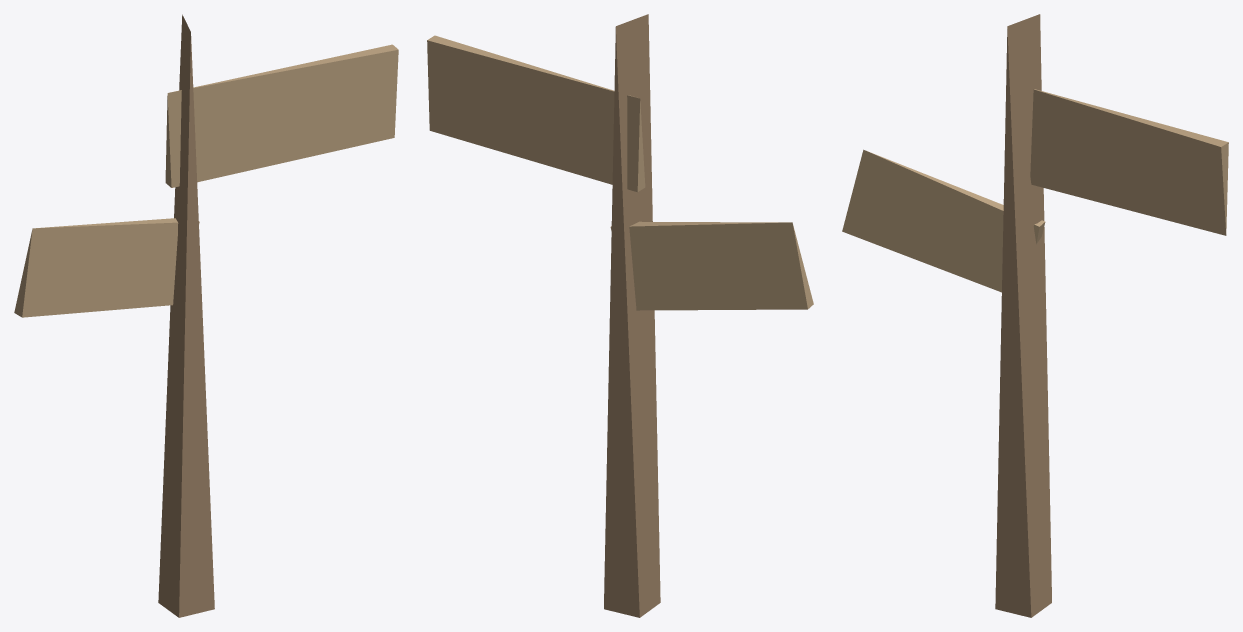
The model's file is 40-Infraestructura_cartel_indicador.glb.
3 renders of one model, left to right at view 1: azimuth 30°, elevation 25°; view 2: azimuth 150°, elevation 25°; view 3: azimuth 330°, elevation 25°, orthographic.
Parts seen in each view (by area): view 1: SM_Cartel_M_Madera_Tabla, SM_Cartel_M_Madera_Poste; view 2: SM_Cartel_M_Madera_Tabla, SM_Cartel_M_Madera_Poste; view 3: SM_Cartel_M_Madera_Tabla, SM_Cartel_M_Madera_Poste.
Part boxes in pixels (x1,y1,x2,y2): SM_Cartel_M_Madera_Tabla: (14, 44, 398, 317); SM_Cartel_M_Madera_Poste: (158, 14, 214, 617); SM_Cartel_M_Madera_Tabla: (427, 35, 813, 310); SM_Cartel_M_Madera_Poste: (604, 14, 660, 617); SM_Cartel_M_Madera_Tabla: (842, 89, 1228, 292); SM_Cartel_M_Madera_Poste: (995, 14, 1051, 617).
Size of the model in its own units: 0.9518 by 1.4 by 0.09.
